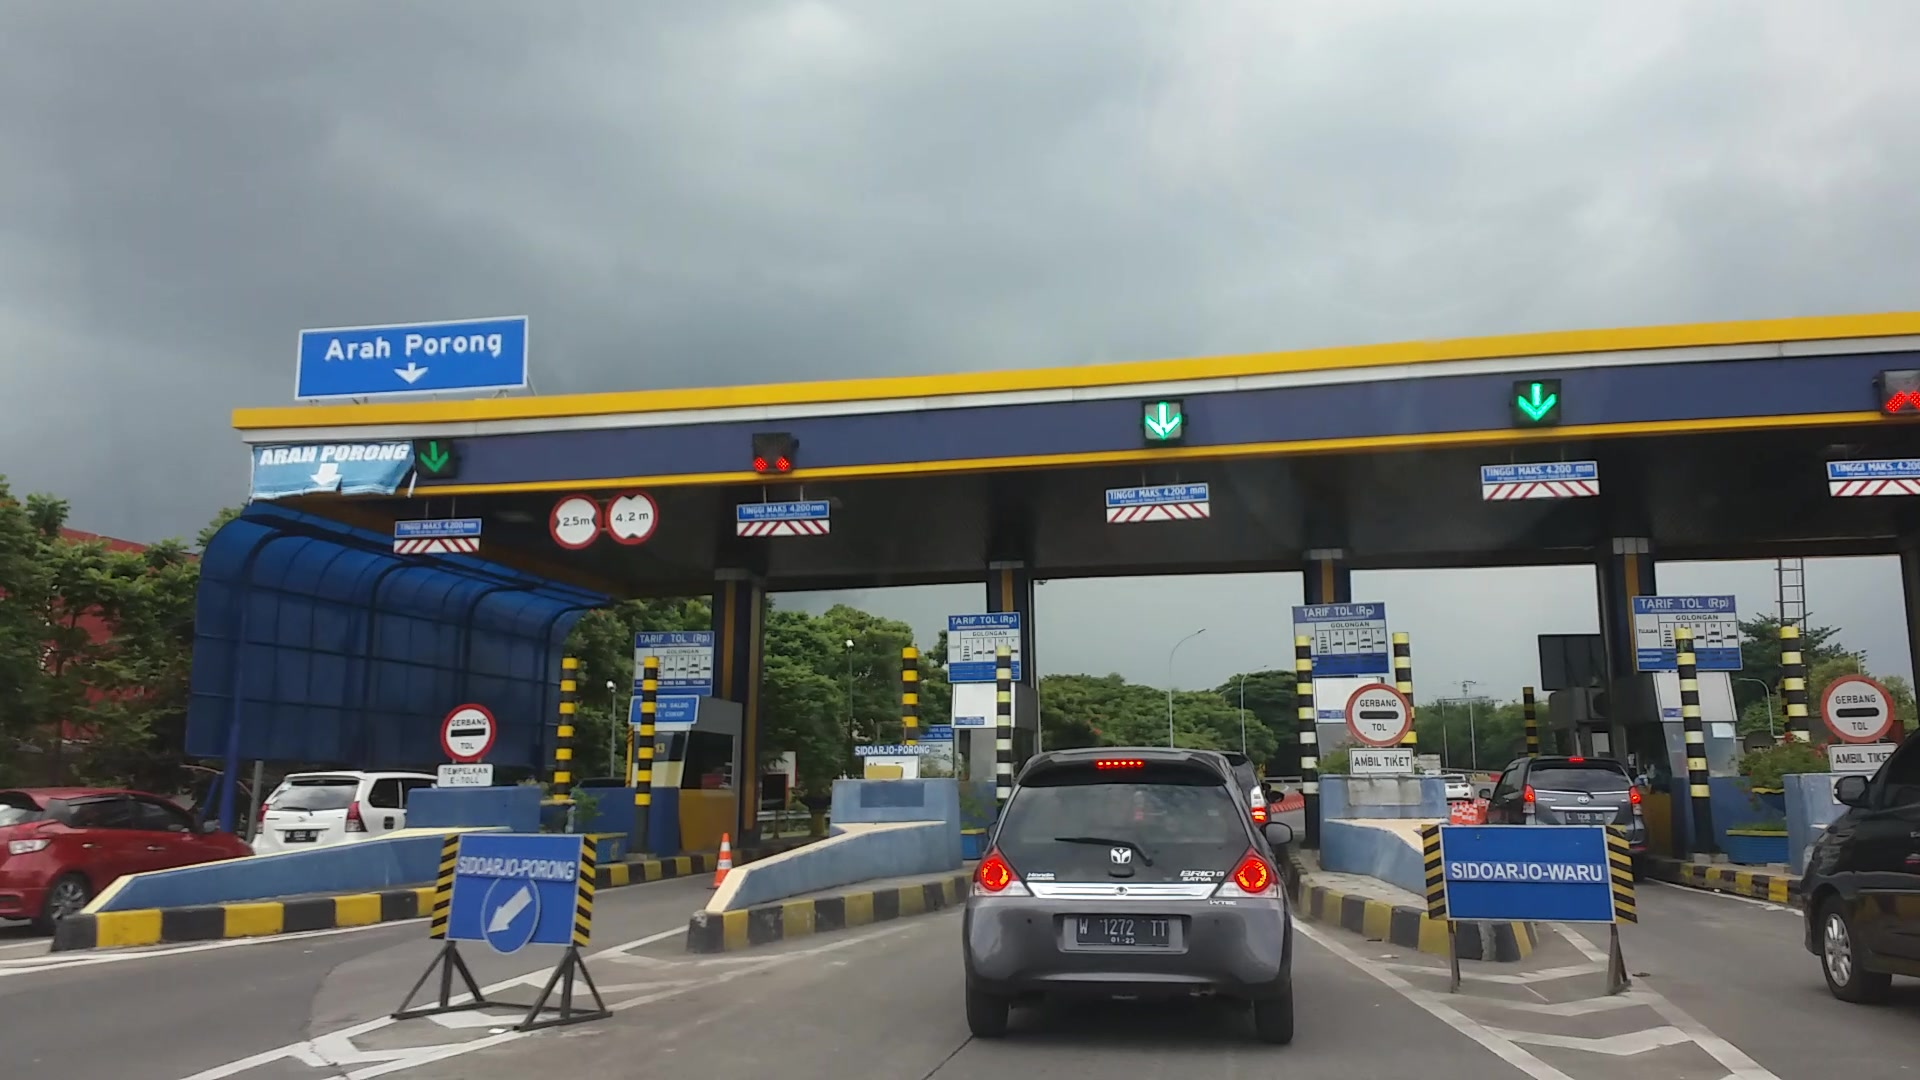plate_positive: (1076, 915, 1168, 947)
